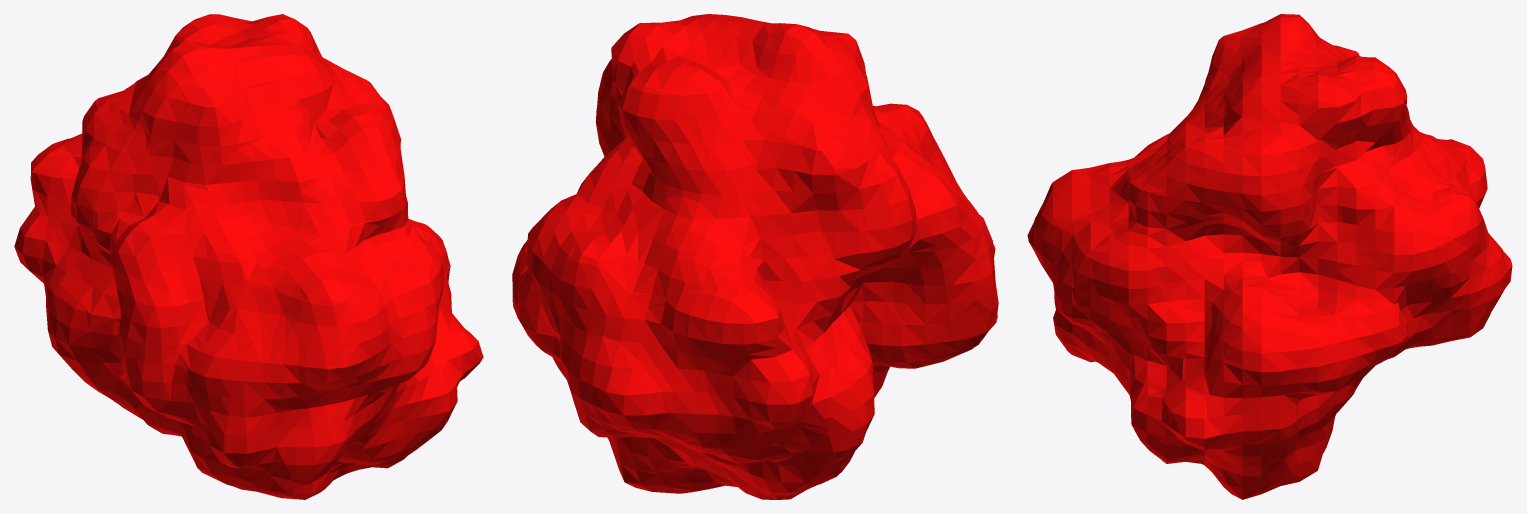
File: upp_coarse.dae
3 views of the same model, side by side, from view 1: azimuth 30°, elevation 25°; view 2: azimuth 150°, elevation 25°; view 3: azimuth 270°, elevation 25° (orthographic). The views are drawn at different scales.
Parts seen in each view (by area): view 1: upp; view 2: upp; view 3: upp.
Boxes of the visible parts, box(x1,y1,x2,y2) form: upp: box(14, 14, 483, 499); upp: box(512, 14, 998, 499); upp: box(1027, 14, 1512, 499).
Bounding box in the file's own units: 69.03 × 80.56 × 84.85.
